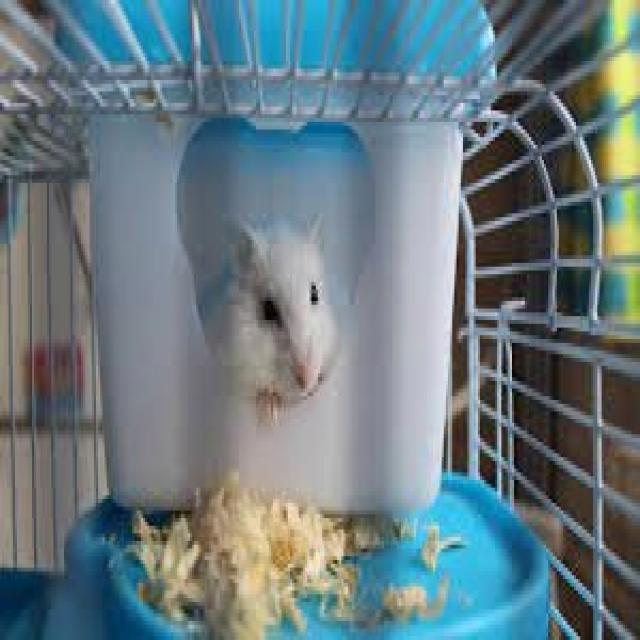hamster: (222, 225, 335, 415)
